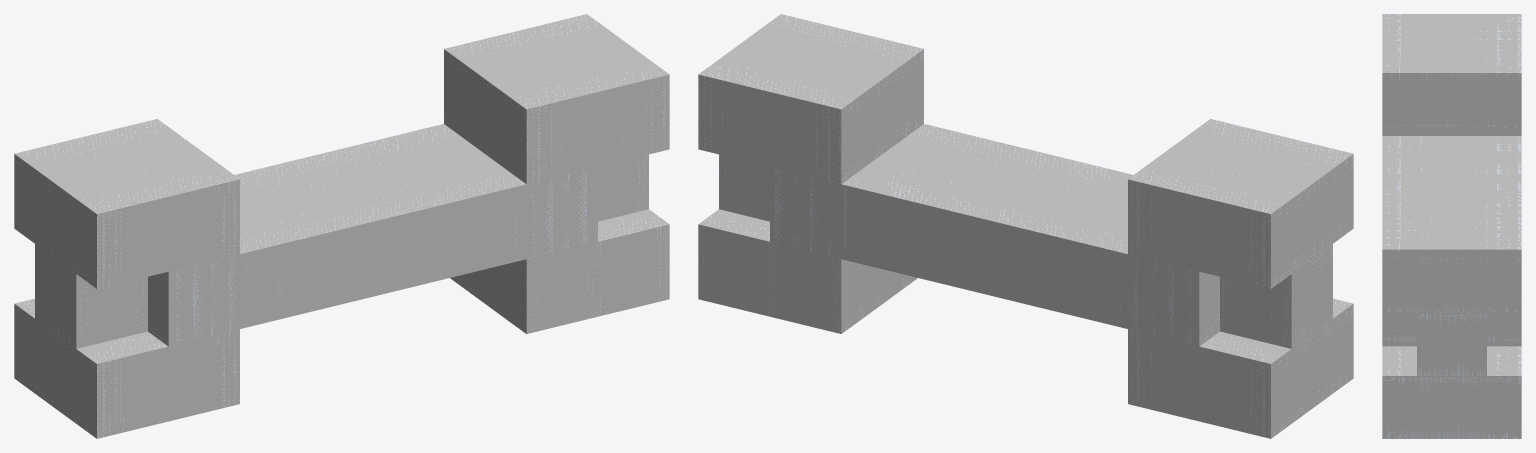
Rendered from bone.fbx.
3 views of the same model, side by side, from view 1: azimuth 30°, elevation 25°; view 2: azimuth 150°, elevation 25°; view 3: azimuth 270°, elevation 25° (orthographic). The views are drawn at different scales.
Visible parts, largest first — view 1: generated; view 2: generated; view 3: generated.
Part boxes in pixels (x1,y1,x2,y2): generated: (14,14,669,438); generated: (698,14,1353,438); generated: (1382,14,1521,438).
Size of the model in its own units: 80 by 30 by 20.
1 material, 1 textured.
